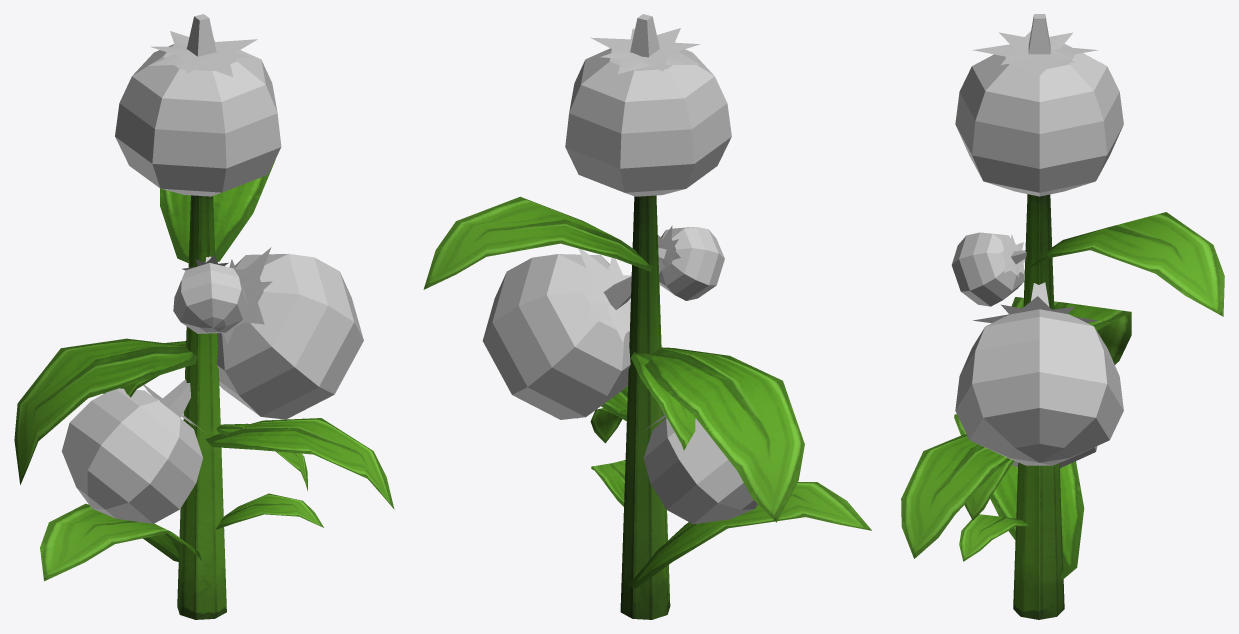
The model's file is Tomato_L.fbx.
3 views of the same model, side by side, from view 1: azimuth 30°, elevation 25°; view 2: azimuth 150°, elevation 25°; view 3: azimuth 270°, elevation 25° (orthographic).
Visible parts, largest first — view 1: Tomato_L; view 2: Tomato_L; view 3: Tomato_L.
Boxes of the visible parts, box(x1,y1,x2,y2) form: Tomato_L: box(14, 14, 394, 619); Tomato_L: box(423, 14, 871, 619); Tomato_L: box(901, 14, 1224, 619).
Bounding box in the file's own units: 1.69 × 2.78 × 1.38.
